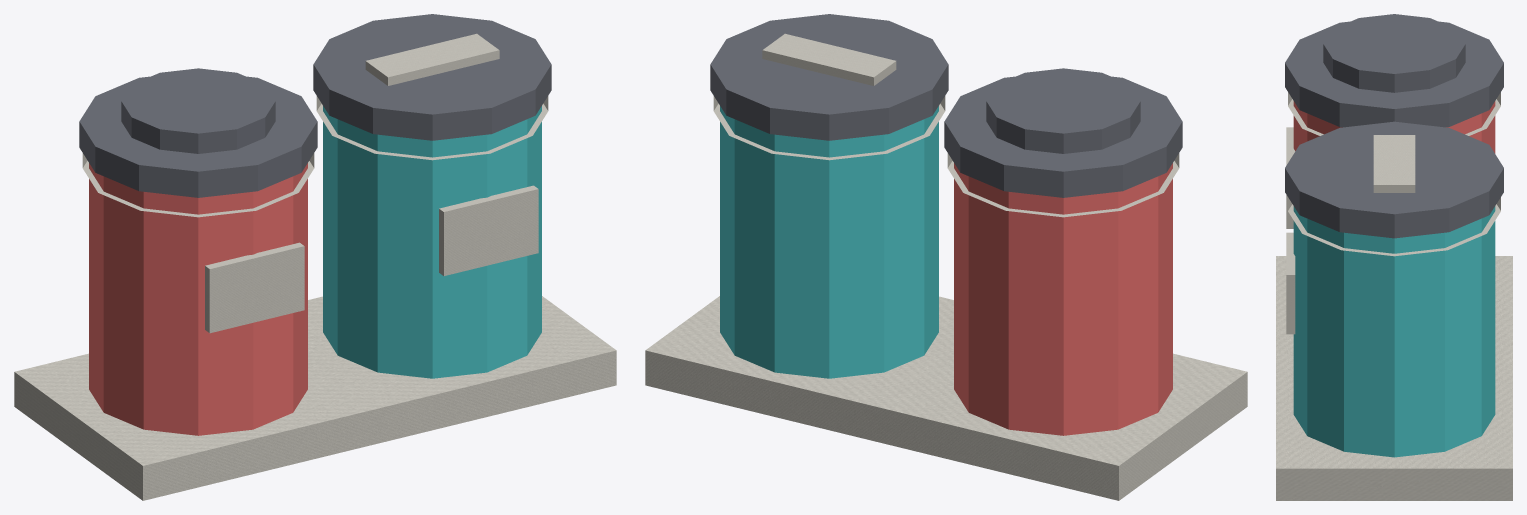
The model's file is theme-park-rides-and-coasters-theme-park-rides-and-coa-486efc8a.glb.
3 renders of one model, left to right at view 1: azimuth 30°, elevation 25°; view 2: azimuth 150°, elevation 25°; view 3: azimuth 270°, elevation 25°, orthographic. The views are drawn at different scales.
Parts seen in each view (by area): view 1: theme-park-rides-and-coasters-bin-and-recycling-pair, lid; view 2: theme-park-rides-and-coasters-bin-and-recycling-pair, lid; view 3: theme-park-rides-and-coasters-bin-and-recycling-pair, lid.
Part boxes in pixels (box(x1,y1,x2,y2)): theme-park-rides-and-coasters-bin-and-recycling-pair: box(14, 14, 616, 500); lid: box(79, 68, 317, 197); theme-park-rides-and-coasters-bin-and-recycling-pair: box(645, 14, 1247, 500); lid: box(944, 68, 1182, 197); theme-park-rides-and-coasters-bin-and-recycling-pair: box(1276, 92, 1512, 500); lid: box(1285, 14, 1503, 127).
Size of the model in its own units: 1.7 by 1.11 by 0.8001.
Materials: 4 (1 with a texture image).
